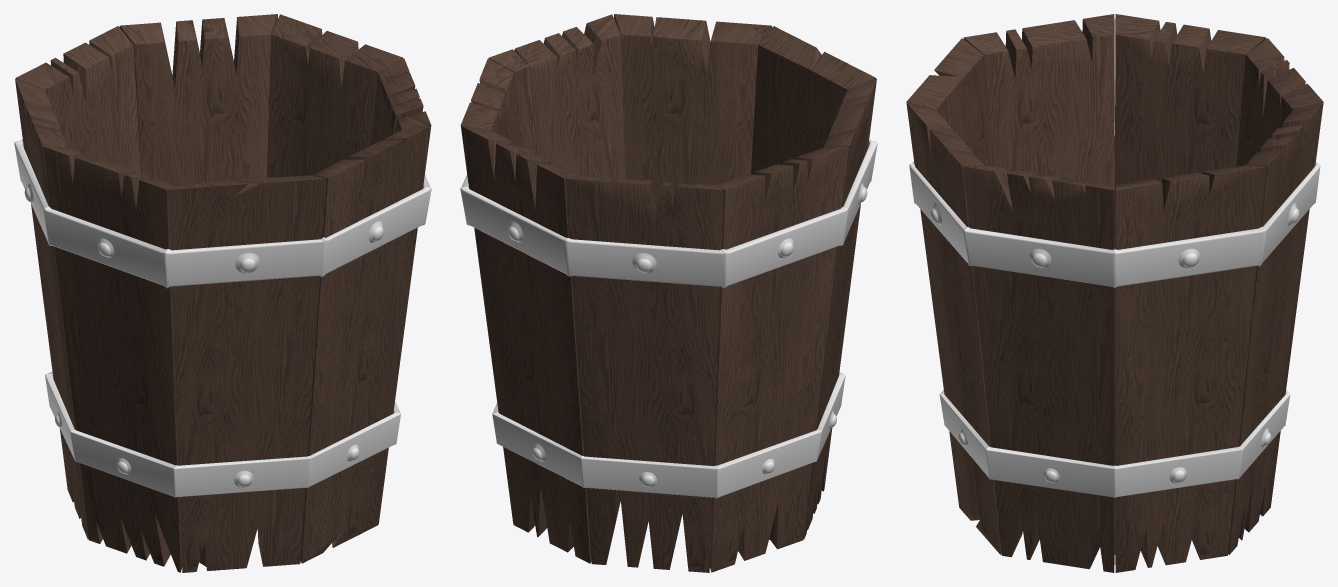
Rendered from Group proj - Bucket.fbx.
3 views of the same model, side by side, from view 1: azimuth 30°, elevation 25°; view 2: azimuth 150°, elevation 25°; view 3: azimuth 270°, elevation 25° (orthographic).
Visible parts, largest first — view 1: Plane; view 2: Plane; view 3: Plane.
Part boxes in pixels (x1,y1,x2,y2): Plane: (14, 14, 431, 572); Plane: (460, 14, 877, 572); Plane: (906, 14, 1323, 572).
Size of the model in its own units: 299 by 320 by 299.
